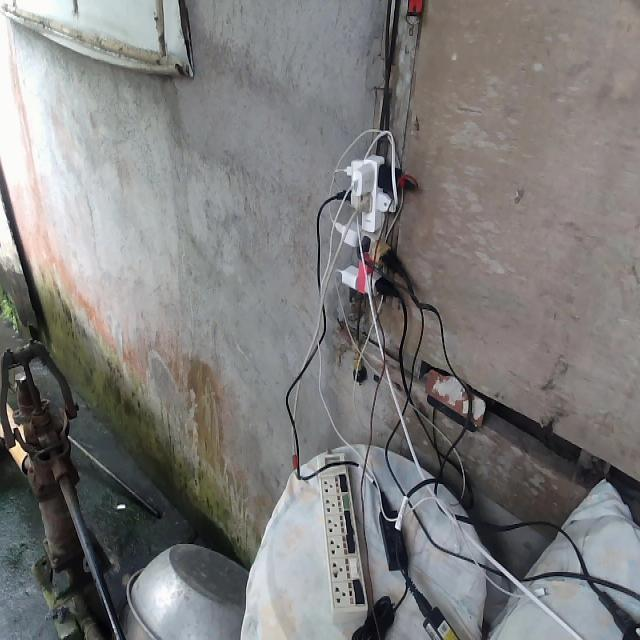-: (333, 151, 403, 296)
